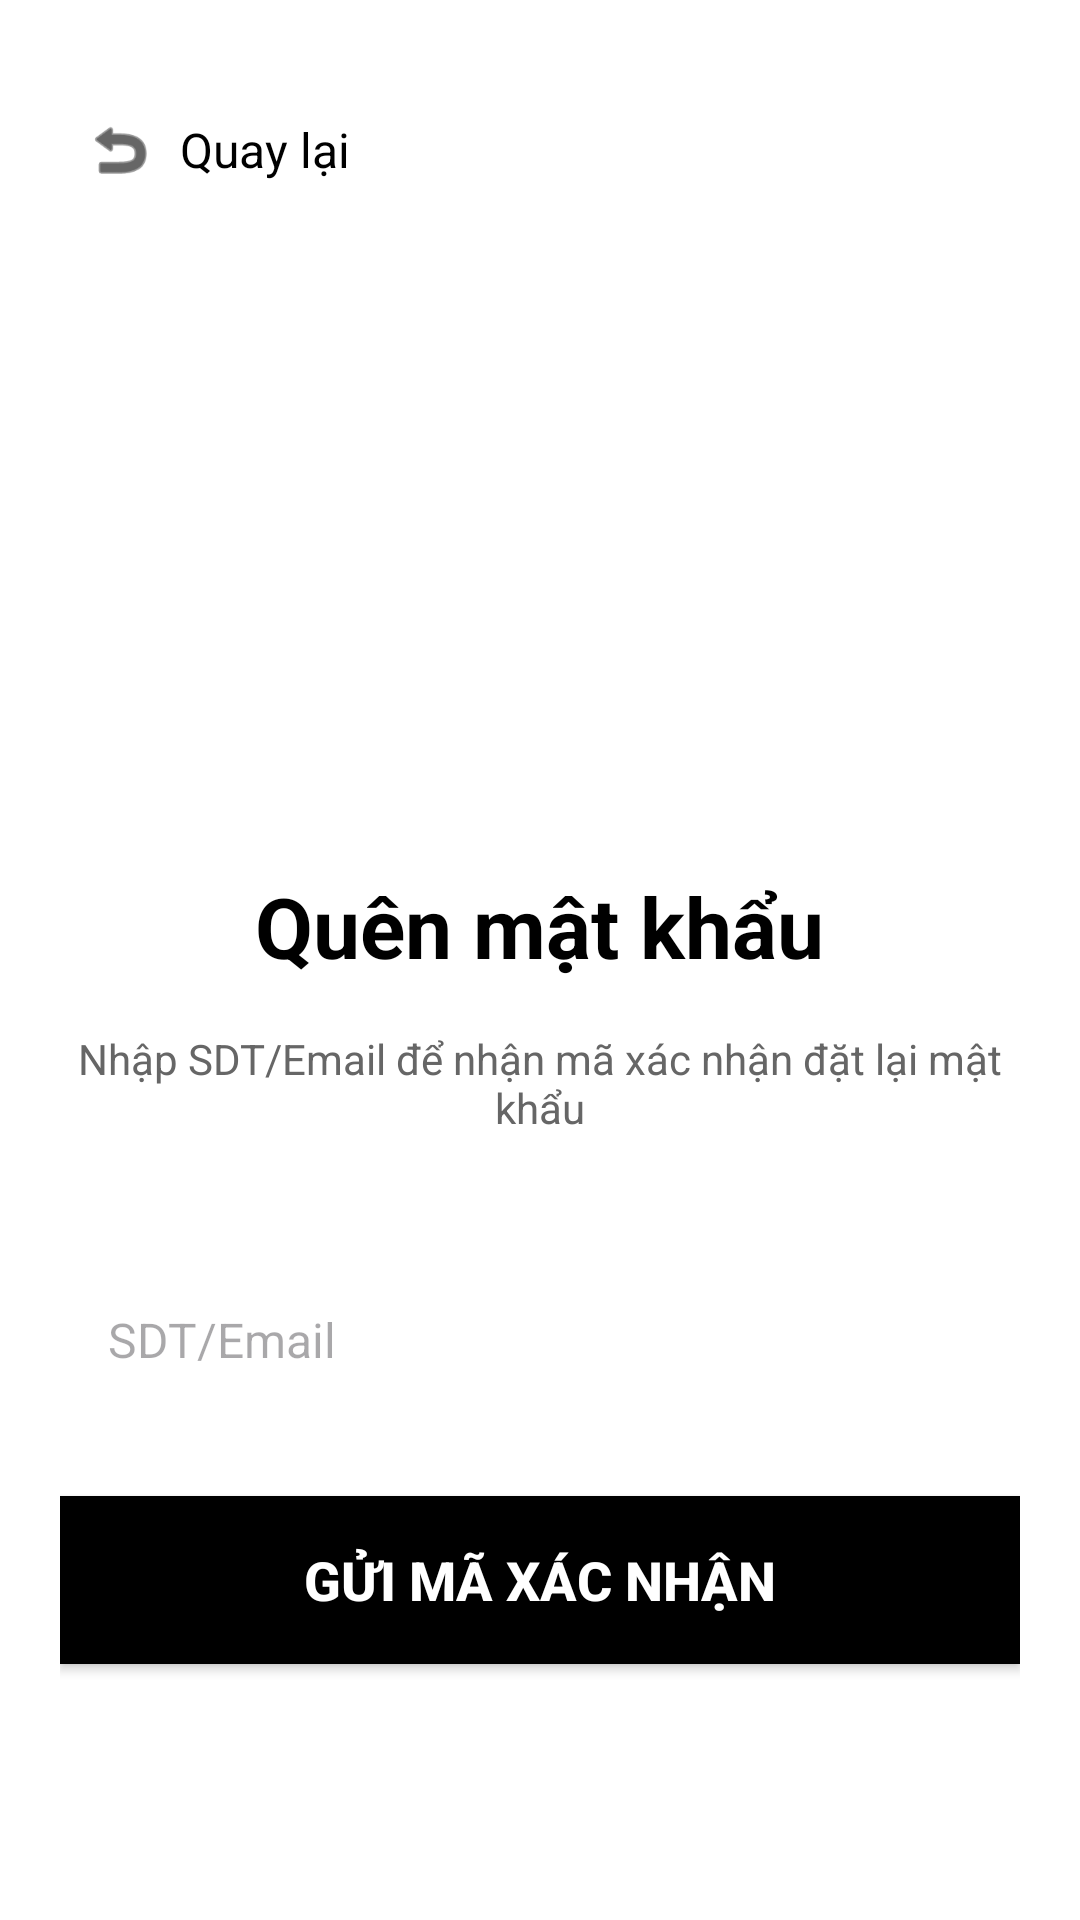

Named icons in this screenshot (1080×1920) and their bounding boxes, box(x1, y1, x2, y2):
revert: box(95, 127, 147, 174)
